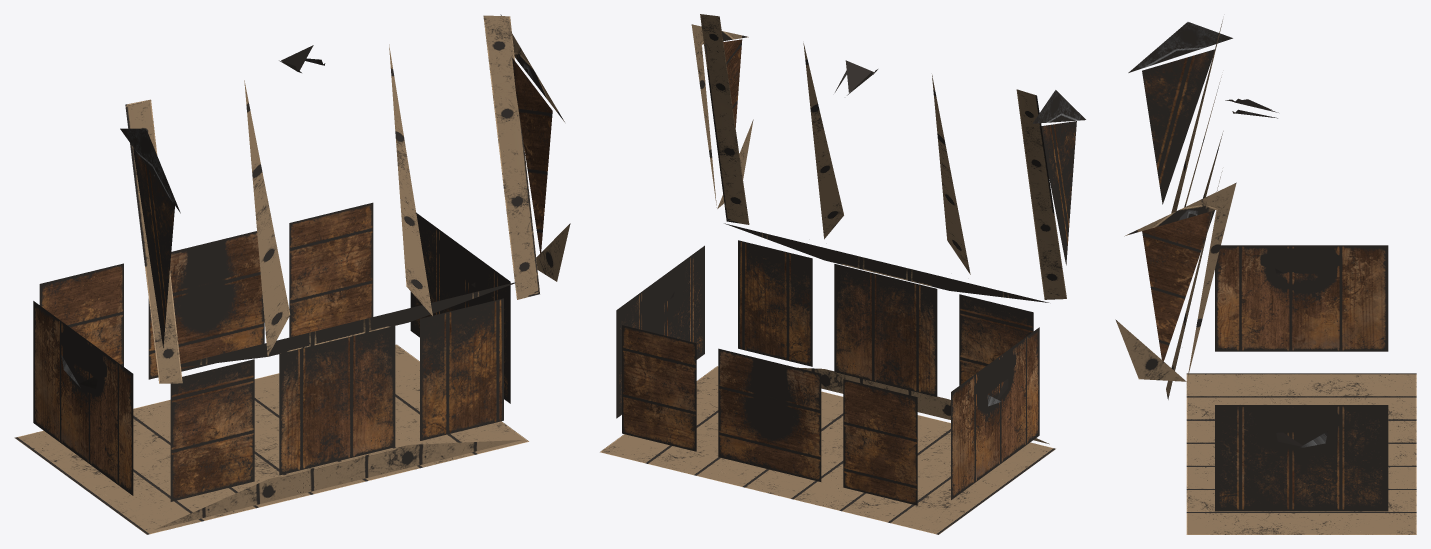
The model's file is chest_open_lod2.glb.
3 renders of one model, left to right at view 1: azimuth 30°, elevation 25°; view 2: azimuth 150°, elevation 25°; view 3: azimuth 270°, elevation 25°, orthographic. The views are drawn at different scales.
Visible parts, largest first — view 1: chest_open_lod2; view 2: chest_open_lod2; view 3: chest_open_lod2.
Boxes of the visible parts, bbox=[...] form: chest_open_lod2: bbox=[14, 14, 570, 534]; chest_open_lod2: bbox=[600, 14, 1085, 534]; chest_open_lod2: bbox=[1115, 20, 1416, 534].
Size of the model in its own units: 0.4399 by 0.4477 by 0.339.
Materials: 1 (1 with a texture image).
